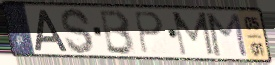A: (33, 8, 69, 52)
B: (98, 8, 137, 57)
M: (170, 11, 217, 58), (205, 12, 250, 59)
P: (132, 10, 166, 56)
S: (59, 6, 96, 56)
